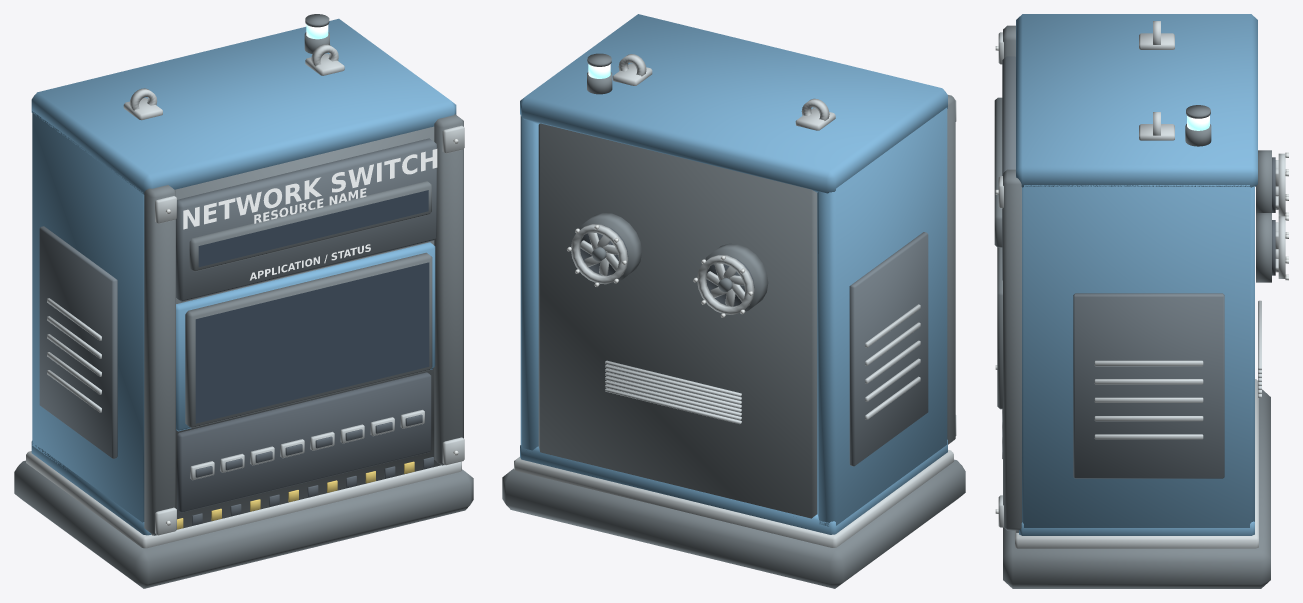
The model's file is network_switch_standard.glb.
3 views of the same model, side by side, from view 1: azimuth 30°, elevation 25°; view 2: azimuth 150°, elevation 25°; view 3: azimuth 270°, elevation 25° (orthographic). The views are drawn at different scales.
Visible parts, largest first — view 1: Roof_blue, LiveViewSurface_glass, SideWall_blue, CornerPost_frame, Skid_frame, PatchPanel_black, FrontHeader_graphite, SideServicePanel_graphite, SealFront_frame, SkidDeck_steel, LiveViewSurfaceFrame_frame, ResourceNameSurface_glass (+13 smaller); view 2: BackWall_frame, Roof_blue, SideWall_blue, Skid_frame, SideServicePanel_graphite, SkidDeck_steel, KickPlate_blue, RearFan_steel, RearVent_steel, CornerPost_frame, RearFan_frame, SideLouver_steel (+3 smaller); view 3: SideWall_blue, Roof_blue, SideServicePanel_graphite, Skid_frame, CornerPost_frame, SkidDeck_steel, SideLouver_steel, RearFan_frame, KickPlate_blue, FrontHeader_graphite, RearFan_steel, ResourceNameSurfaceFrame_frame (+6 smaller).
Part boxes in pixels (box(x1,y1,x2,y2)): Roof_blue: box(31, 18, 456, 194); LiveViewSurface_glass: box(195, 262, 429, 423); SideWall_blue: box(32, 111, 144, 522); CornerPost_frame: box(144, 114, 463, 535); Skid_frame: box(14, 460, 473, 588); PatchPanel_black: box(177, 372, 431, 512); FrontHeader_graphite: box(176, 138, 436, 301); SideServicePanel_graphite: box(39, 226, 117, 458); SealFront_frame: box(151, 126, 440, 535); SkidDeck_steel: box(26, 451, 461, 548); LiveViewSurfaceFrame_frame: box(185, 252, 432, 428); ResourceNameSurface_glass: box(198, 190, 428, 267); BackWall_frame: box(538, 123, 817, 518); Roof_blue: box(520, 14, 947, 193); SideWall_blue: box(520, 107, 947, 526); Skid_frame: box(502, 459, 965, 588); SideServicePanel_graphite: box(849, 232, 928, 466); SkidDeck_steel: box(514, 450, 953, 547); KickPlate_blue: box(520, 439, 947, 534); RearFan_steel: box(571, 224, 754, 314); RearVent_steel: box(605, 360, 741, 424); CornerPost_frame: box(947, 95, 955, 444); RearFan_frame: box(579, 213, 768, 313); SideLouver_steel: box(865, 304, 920, 419); SideWall_blue: box(1022, 185, 1254, 527); Roof_blue: box(1016, 14, 1257, 187); SideServicePanel_graphite: box(1073, 293, 1224, 478); Skid_frame: box(1003, 389, 1270, 588); CornerPost_frame: box(1003, 25, 1021, 530); SkidDeck_steel: box(1015, 379, 1258, 548); SideLouver_steel: box(1094, 360, 1203, 439); RearFan_frame: box(1256, 150, 1271, 282); KickPlate_blue: box(1019, 521, 1254, 535); FrontHeader_graphite: box(1002, 56, 1015, 280); RearFan_steel: box(1275, 153, 1285, 278); ResourceNameSurfaceFrame_frame: box(994, 97, 1002, 247).
Bounding box in the file's own units: 2 × 2.48 × 1.47.
